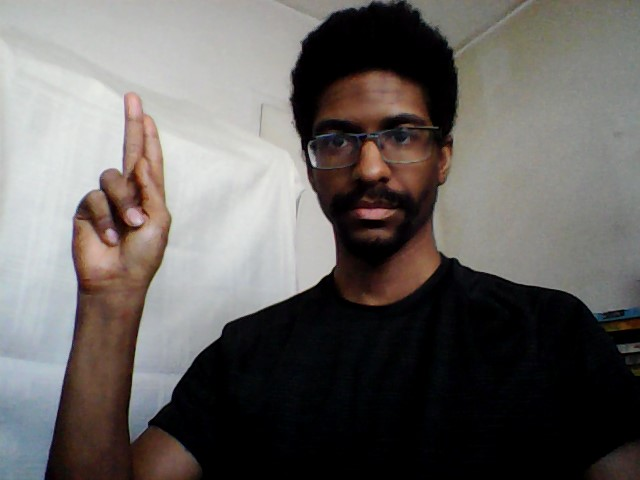k: (64, 87, 176, 311)
